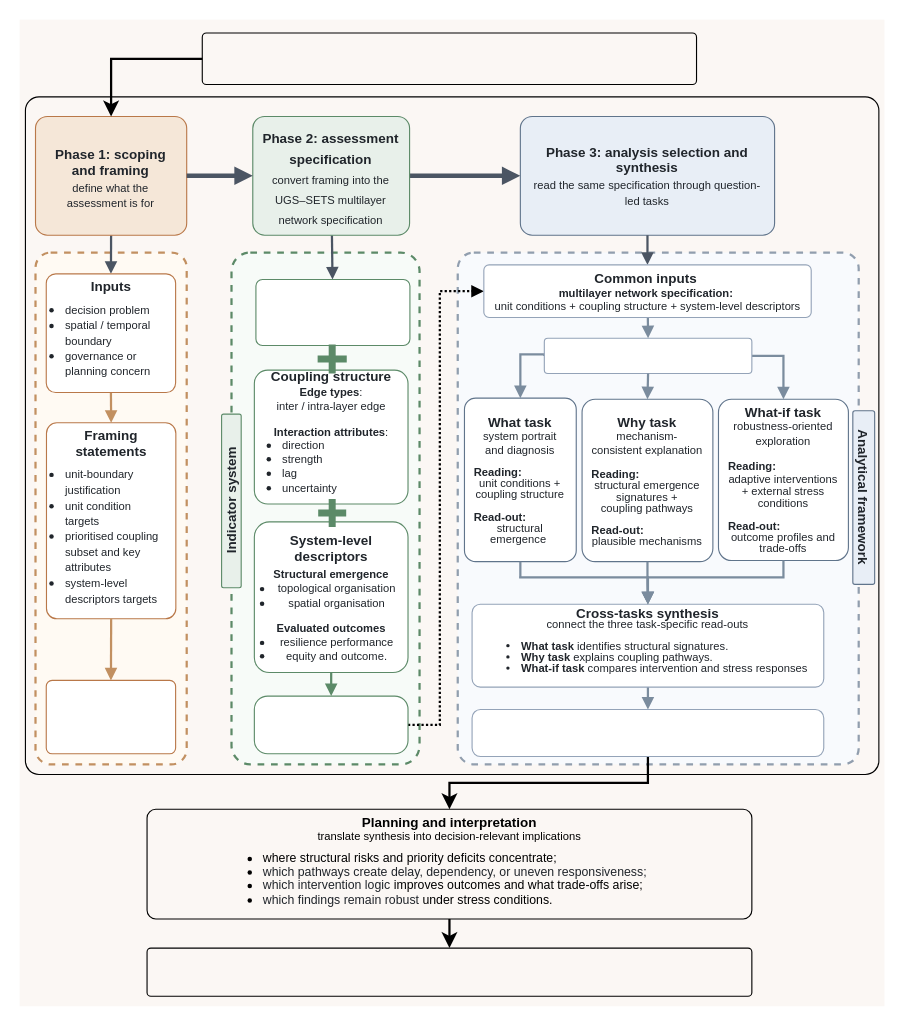
Some shapes in this 904 by 1025 pixel diagram are drawn without their labels. Each missing label, with the box of its shape:
Goal: support comparable, transparent, and decision-relevant UGS planning and: (146, 947, 752, 996)
Outputs decision-relevant scope for the assessment: (45, 679, 176, 754)
Outputs question-aligned synthesis grounded in system-level descriptors: (471, 708, 824, 757)
Outputs transparent and traceable assessment specification: (253, 695, 408, 754)
Question-led tasks tasks selected by analytical question: (543, 337, 752, 374)
UGS--SETS decision context UGS assessment question involving S/E/T coupling: (201, 32, 697, 85)
Unit conditions S/E/T indicators capacity proxies: (255, 278, 410, 346)
